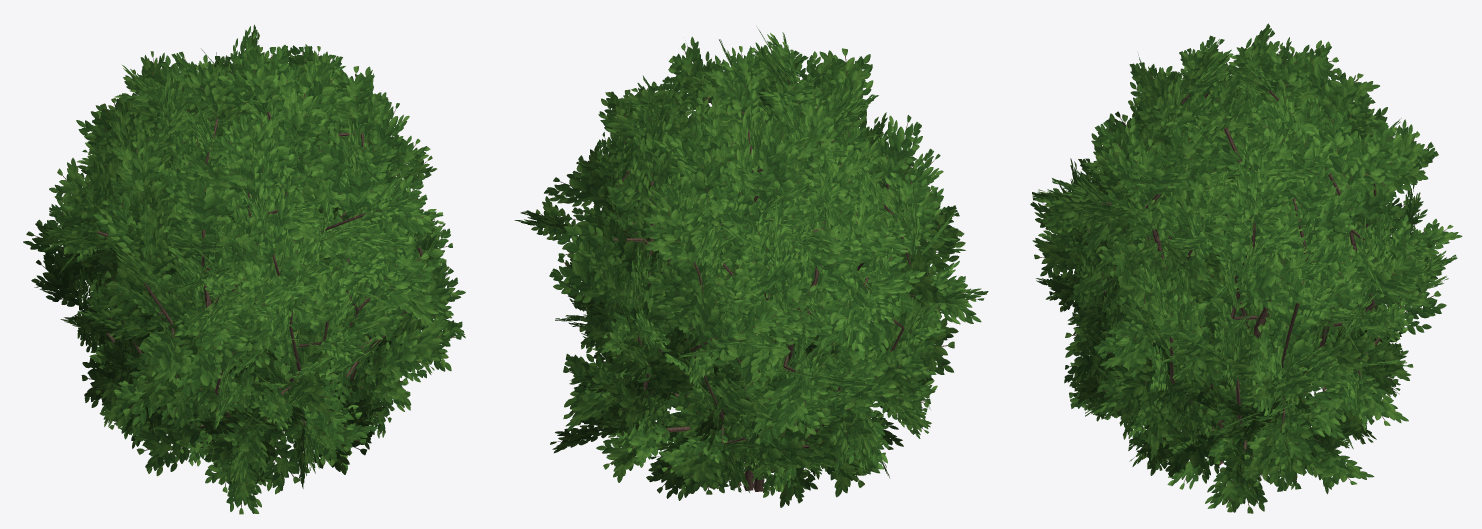
File: bush_tall_01.glb
3 views of the same model, side by side, from view 1: azimuth 30°, elevation 25°; view 2: azimuth 150°, elevation 25°; view 3: azimuth 270°, elevation 25° (orthographic). The views are drawn at different scales.
Parts seen in each view (by area): view 1: bush_tall_01; view 2: bush_tall_01; view 3: bush_tall_01.
Part boxes in pixels (bbox=[...]): bush_tall_01: bbox=[23, 24, 465, 514]; bush_tall_01: bbox=[514, 27, 988, 507]; bush_tall_01: bbox=[1030, 23, 1462, 513].
Bounding box in the file's own units: 2.53 × 2.76 × 2.55.
2 materials, 2 textured.
